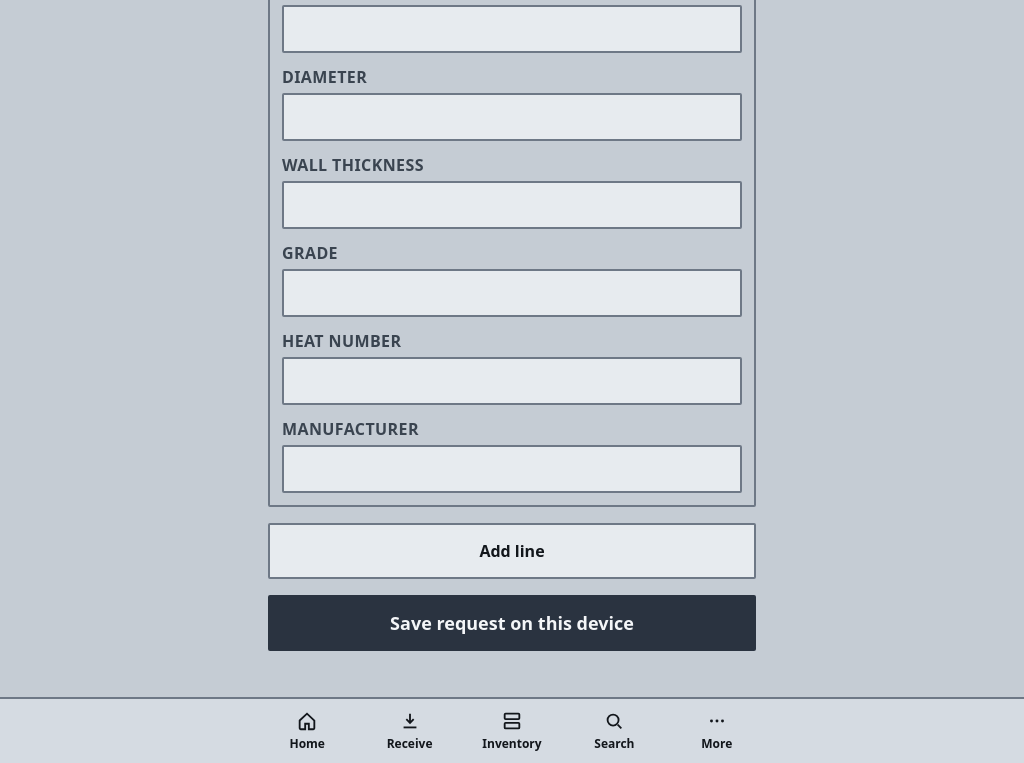
Scenario: MTR request uses the spreadsheet labels and stays a local draft
The image size is (1024, 763).
(page scrolled)
Expected: the field labelled "Material Description" is shown, [282,5,742,53]
Expected: the field labelled "Diameter" is shown, [282,93,742,141]
Click the button "Save request on this device": {"x": 512, "y": 623} [268,595,756,651]
(page scrolled)
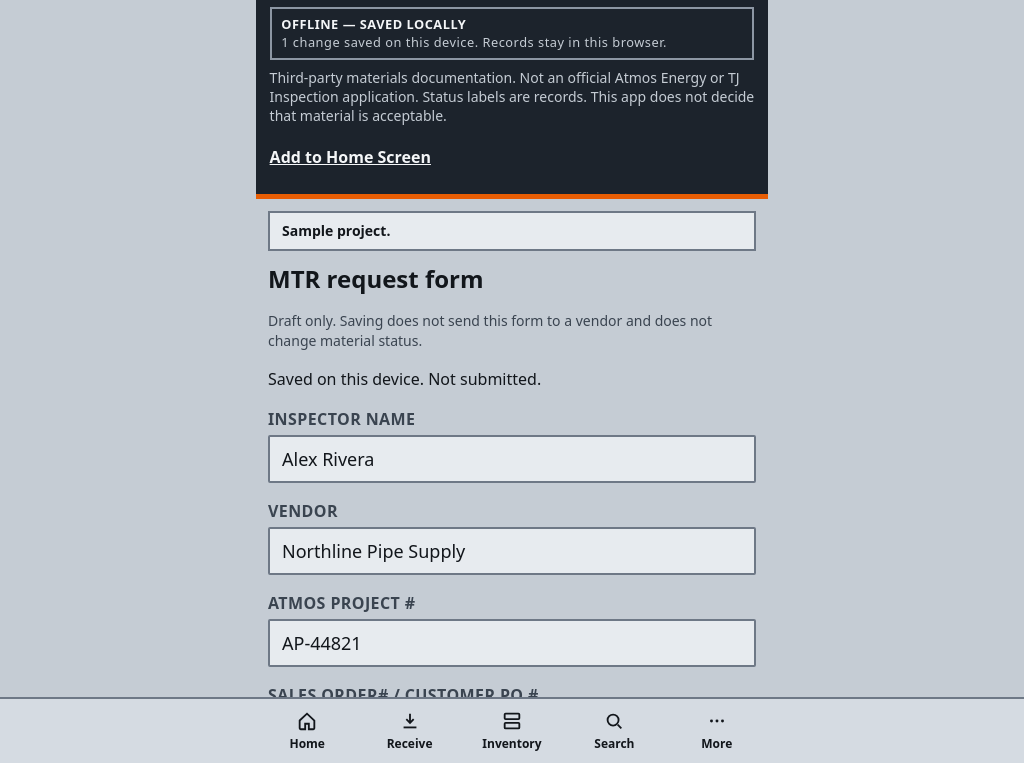
Expected: the text "Saved on this device. Not submitted." is shown, [268,368,541,390]
